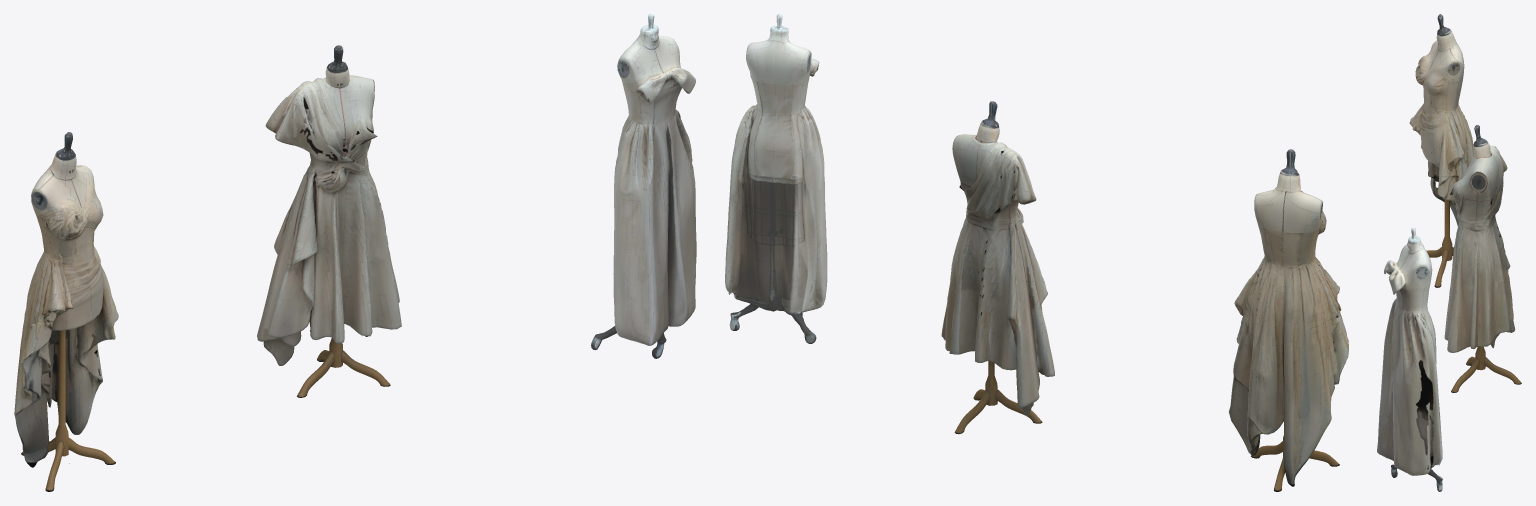
Rendered from Dress.glb.
The picture shows the model from 3 angles, left to right: view 1: azimuth 30°, elevation 25°; view 2: azimuth 150°, elevation 25°; view 3: azimuth 270°, elevation 25°; orthographic projection. The views are drawn at different scales.
Visible parts, largest first — view 1: Dress.001; view 2: Dress.001; view 3: Dress.001.
Part boxes in pixels (x1,y1,x2,y2): Dress.001: (14, 14, 696, 491); Dress.001: (725, 14, 1348, 491); Dress.001: (1377, 14, 1521, 491).
Bounding box in the file's own units: 4.08 × 2.01 × 1.02.
1 material, 1 textured.
